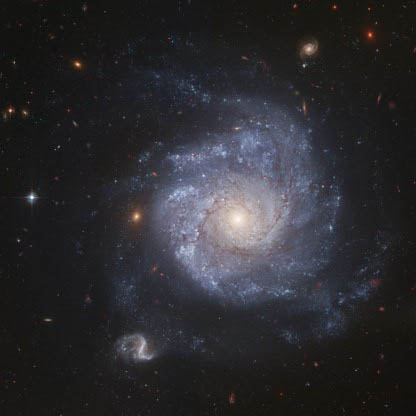NGC 1309: (69, 36, 352, 367)
